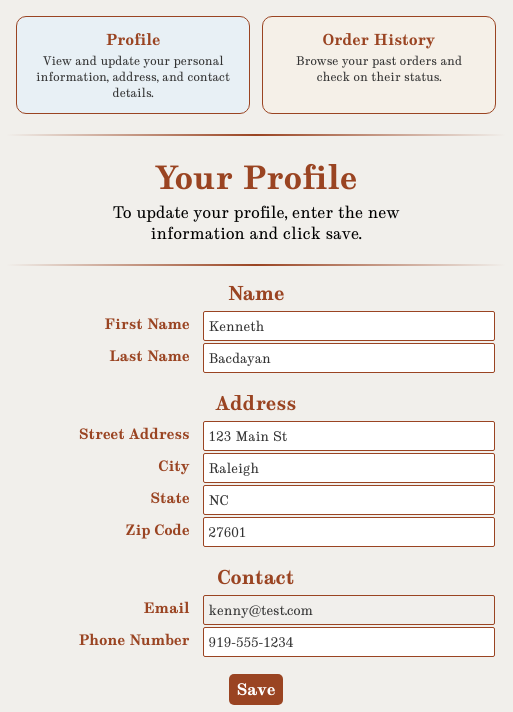
Test: Profile Page › shows first backend fields error from array values
Expected: the field labelled "First Name" is shown, [203, 311, 495, 341]
Click the button "Save" at (256, 690), box [228, 674, 284, 705]
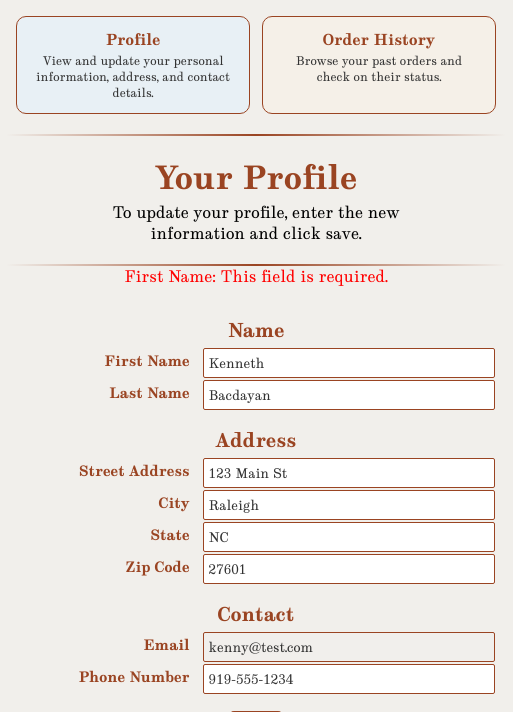
Expected: the text "First Name: This field is required." is shown, [124, 266, 388, 287]
